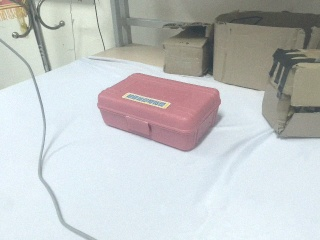box: (95, 72, 228, 151), (212, 10, 320, 92), (263, 49, 320, 138), (162, 23, 213, 77)
